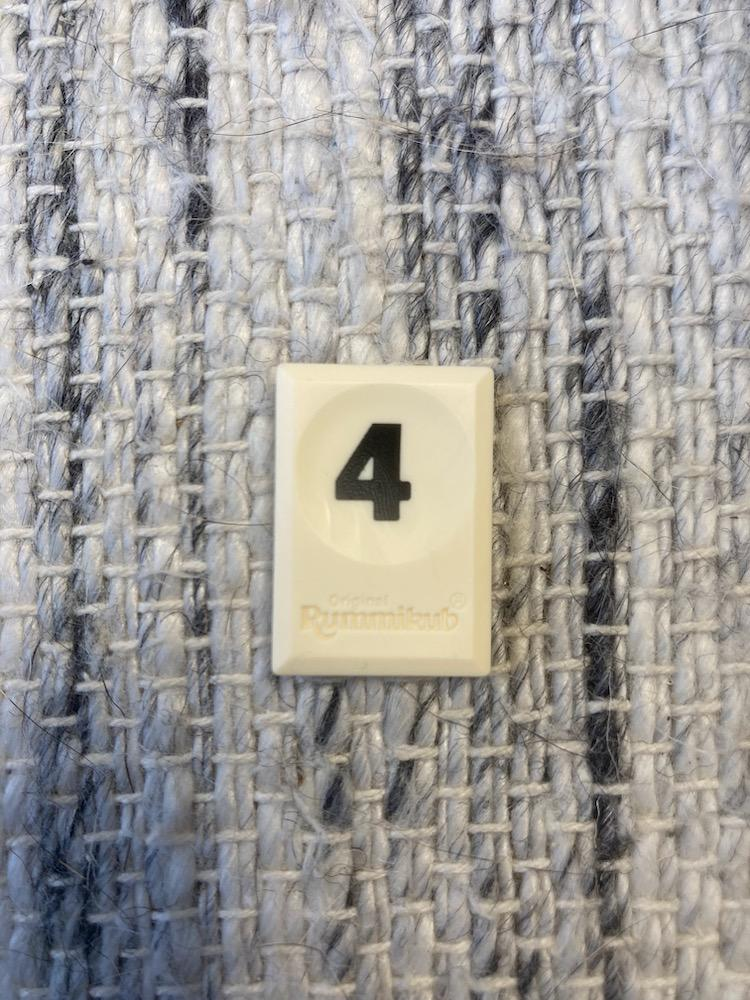black_4: (273, 363, 492, 676)
